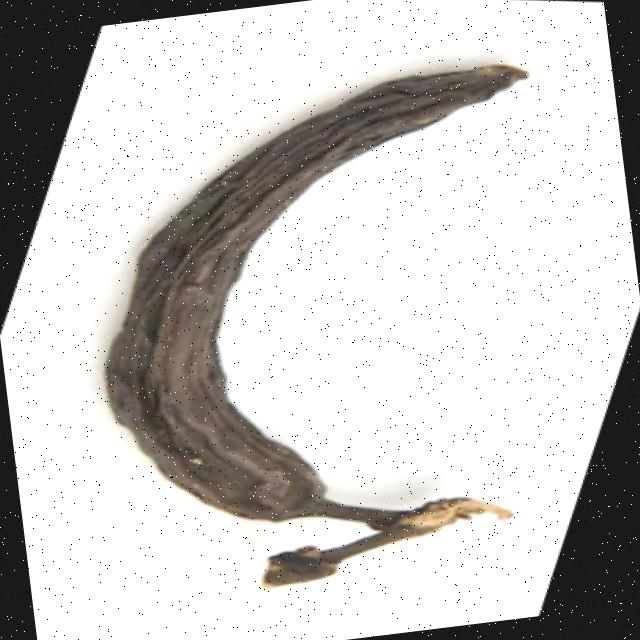Rotten: (70, 57, 583, 542)
